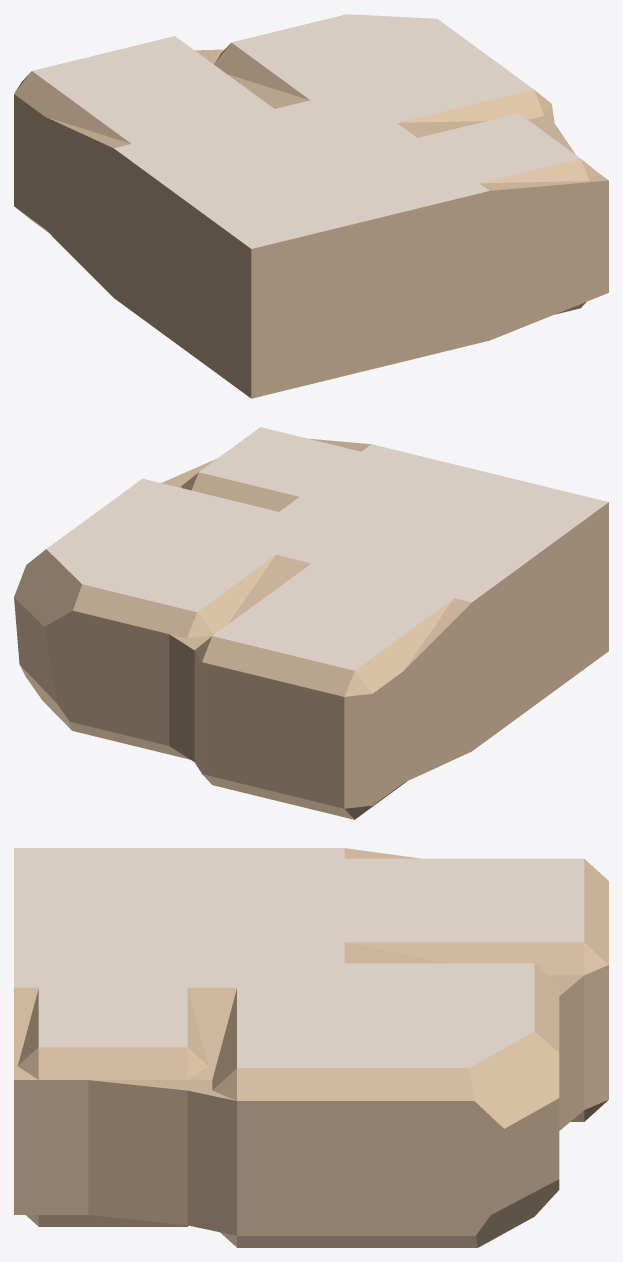
Rendered from Floor_Ruined_Corner_Outer_1.fbx.
The picture shows the model from 3 angles, top to bottom: view 1: azimuth 30°, elevation 25°; view 2: azimuth 150°, elevation 25°; view 3: azimuth 270°, elevation 25°; orthographic projection. The views are drawn at different scales.
Visible parts, largest first — view 1: Sandstone_Trim.object1, Sandstone_Floor; view 2: Sandstone_Trim.object1, Sandstone_Floor; view 3: Sandstone_Trim.object1, Sandstone_Floor.
Boxes of the visible parts, x1,y1,x2,y2 form: Sandstone_Trim.object1: (14, 42, 608, 398); Sandstone_Floor: (32, 14, 580, 248); Sandstone_Trim.object1: (14, 438, 608, 819); Sandstone_Floor: (46, 427, 608, 670); Sandstone_Trim.object1: (14, 848, 608, 1247); Sandstone_Floor: (14, 848, 584, 1067).
Size of the model in its own units: 0.55 by 0.2 by 0.6.
